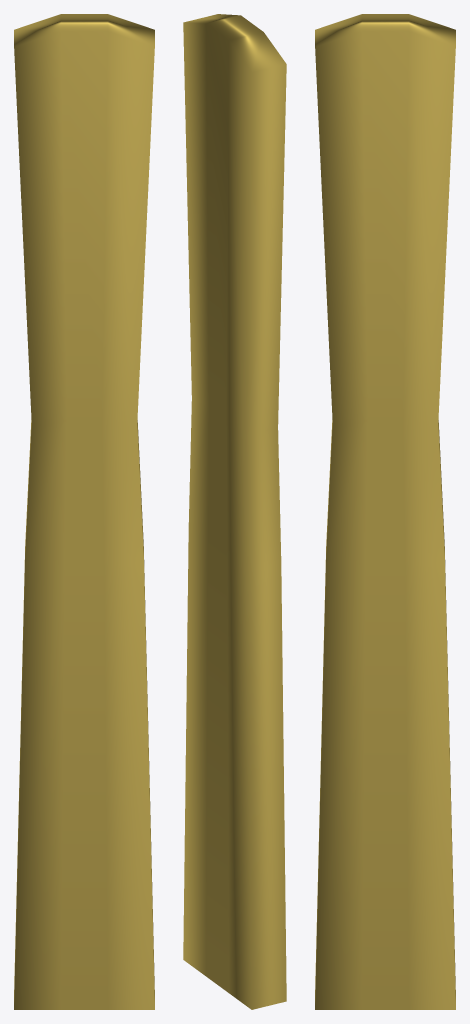
Rendered from Building_C_10.fbx.
The picture shows the model from 3 angles, left to right: view 1: azimuth 90°, elevation 25°; view 2: azimuth 210°, elevation 25°; view 3: azimuth 270°, elevation 25°; orthographic projection. The views are drawn at different scales.
Visible parts, largest first — view 1: Building_C_10; view 2: Building_C_10; view 3: Building_C_10.
Boxes of the visible parts, box(x1,y1,x2,y2) form: Building_C_10: box(14, 14, 154, 1009); Building_C_10: box(183, 14, 286, 1009); Building_C_10: box(315, 14, 455, 1009).
Size of the model in its own units: 29.4 by 767 by 100.
